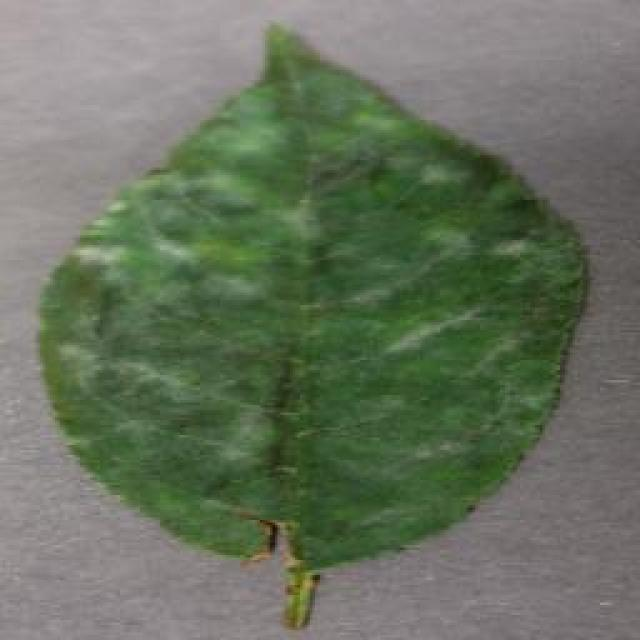Cherry___Powdery_mildew: (66, 89, 545, 519)
